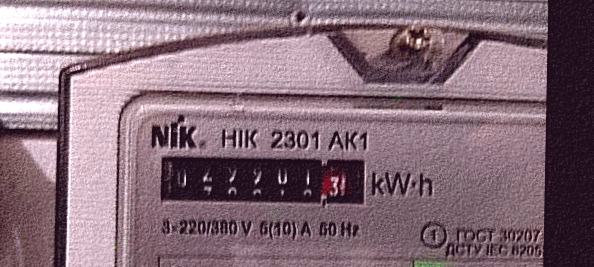0: (274, 162, 290, 187), (173, 166, 189, 188)
1: (301, 162, 314, 186)
2: (200, 161, 215, 184)
3: (326, 175, 342, 198)
9: (250, 163, 263, 186), (226, 162, 238, 183)
screen: (152, 148, 374, 215)
